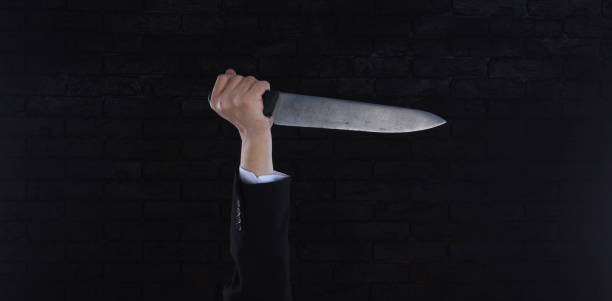knife: (262, 89, 449, 136)
